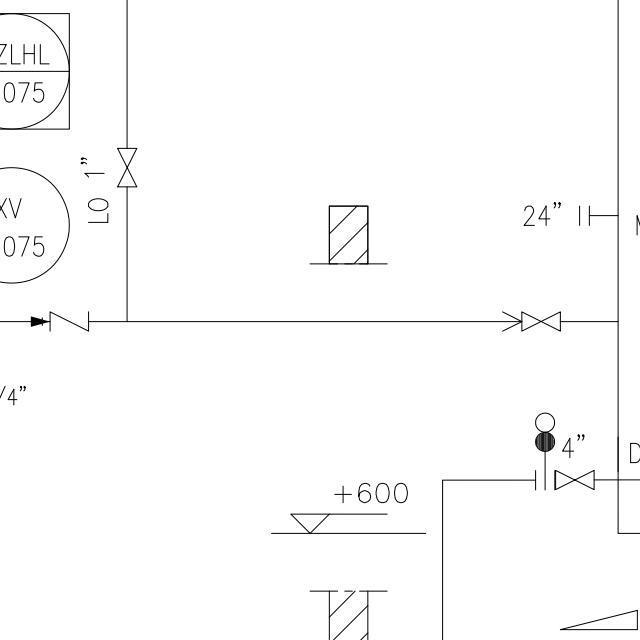GV: (549, 463, 600, 494), (517, 305, 565, 337), (111, 142, 140, 193)
